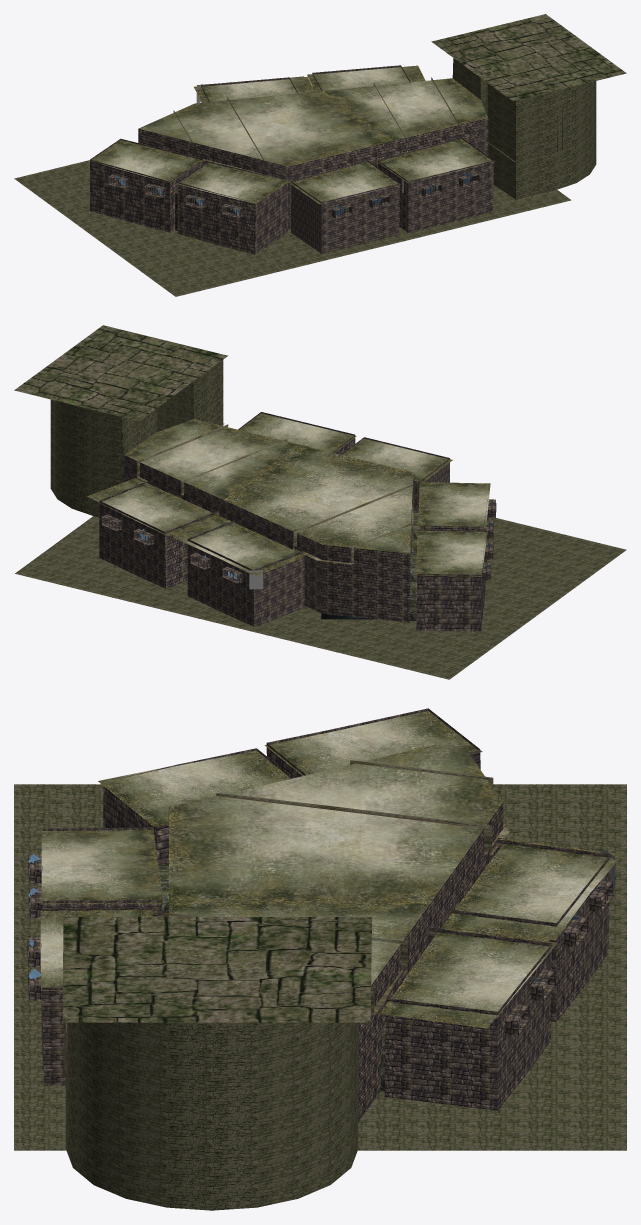
File: navy_jail_interior.fbx
3 views of the same model, one above another, from view 1: azimuth 30°, elevation 25°; view 2: azimuth 150°, elevation 25°; view 3: azimuth 270°, elevation 25° (orthographic). The views are drawn at different scales.
Parts seen in each view (by area): view 1: ceiling_main, floor, polySurface71, polySurface70, walls, pasted__pPlane74, pasted__pPlane76, pasted__pPlane81, pasted__pPlane68, ceiling80, ceiling77, ceiling78 (+3 smaller); view 2: floor, ceiling_main, polySurface70, polySurface71, walls, pasted__pPlane82, pasted__pPlane83, pasted__pPlane68, ceiling75, ceiling76, ceiling78, ceiling77 (+5 smaller); view 3: polySurface71, floor, ceiling_main, polySurface70, pasted__pPlane83, ceiling75, ceiling76, ceiling79, ceiling78, ceiling77, walls, pasted__pPlane82 (+7 smaller).
Part boxes in pixels (x1,y1,x2,y2): ceiling_main: [138, 78, 487, 166]; floor: [14, 160, 571, 296]; polySurface71: [452, 58, 596, 199]; polySurface70: [431, 14, 626, 100]; walls: [138, 118, 488, 229]; pasted__pPlane74: [178, 161, 288, 254]; pasted__pPlane76: [291, 160, 399, 253]; pasted__pPlane81: [378, 137, 493, 232]; pasted__pPlane68: [90, 138, 203, 232]; ceiling80: [377, 139, 494, 182]; ceiling77: [89, 140, 204, 183]; ceiling78: [177, 163, 290, 204]; floor: [15, 516, 626, 679]; ceiling_main: [125, 419, 414, 553]; polySurface70: [14, 325, 227, 421]; polySurface71: [50, 360, 223, 517]; walls: [124, 455, 414, 622]; pasted__pPlane82: [187, 520, 304, 626]; pasted__pPlane83: [99, 481, 219, 588]; pasted__pPlane68: [416, 529, 486, 631]; ceiling75: [87, 478, 220, 535]; ceiling76: [172, 516, 305, 574]; ceiling78: [418, 482, 490, 528]; ceiling77: [416, 530, 487, 576]; polySurface71: [65, 1022, 358, 1210]; floor: [14, 784, 626, 1150]; ceiling_main: [169, 739, 502, 984]; polySurface70: [63, 917, 371, 1022]; pasted__pPlane83: [384, 927, 552, 1110]; ceiling75: [380, 926, 557, 1028]; ceiling76: [442, 839, 620, 941]; ceiling79: [41, 828, 163, 904]; ceiling78: [98, 750, 290, 826]; ceiling77: [264, 711, 482, 775]; walls: [168, 802, 503, 1121]; pasted__pPlane82: [451, 839, 610, 1021].
Size of the model in its own units: 15565 by 4233 by 9394.
5 materials, 5 textured.
